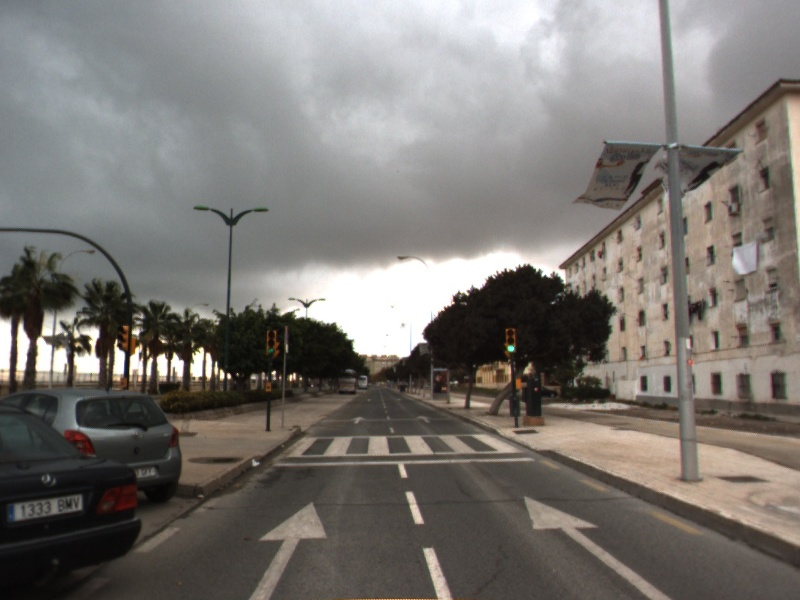STRAIGHT: (522, 494, 679, 600), (245, 499, 331, 600), (414, 413, 434, 425), (348, 414, 368, 426)
